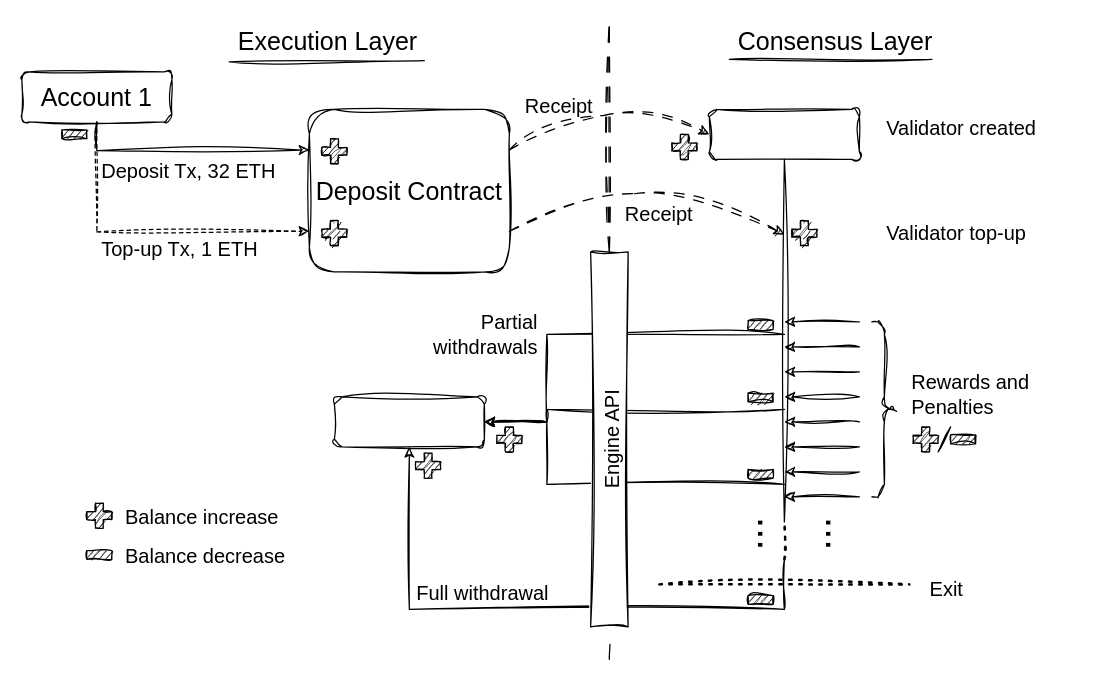
Image size: 1106x683. Some labels were removed from this diagram. The shapes that lost their labels are listed below. From the top down, each one's centre as x and y in pixels, then its label:
[783,133]: 32 ETH
[408,421]: Account 2
